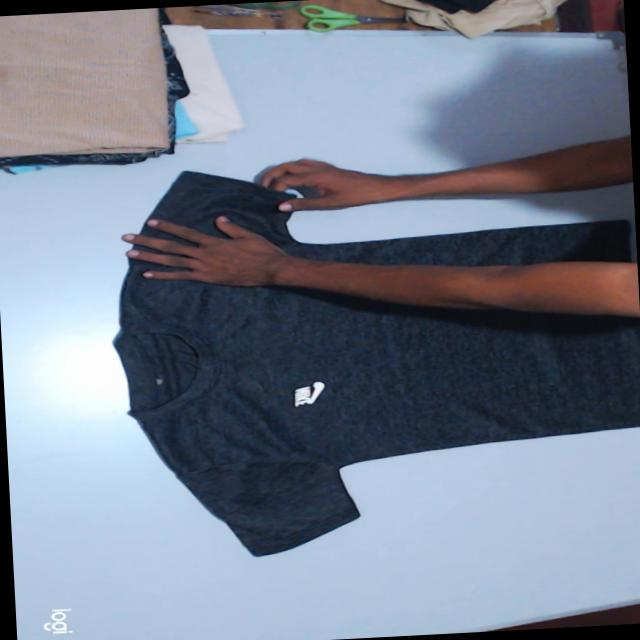new-garment: (115, 257, 640, 556), (151, 172, 628, 265)
